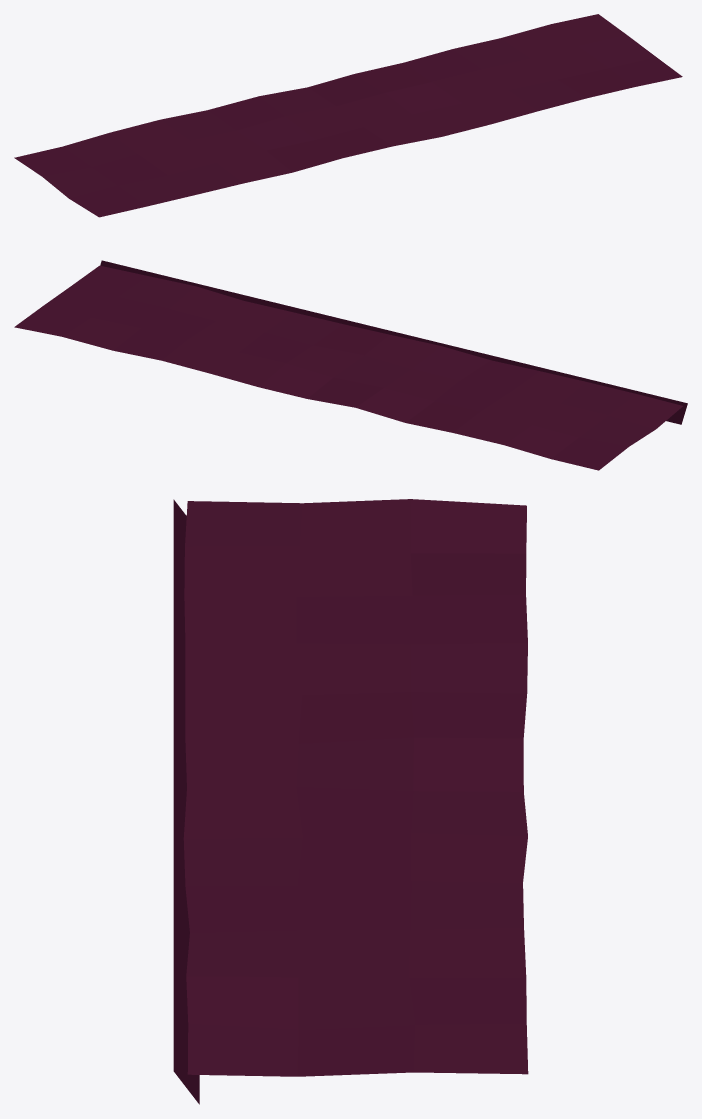
File: bank.glb
3 renders of one model, top to bottom at view 1: azimuth 30°, elevation 25°; view 2: azimuth 150°, elevation 25°; view 3: azimuth 270°, elevation 25°, orthographic. The views are drawn at different scales.
Visible parts, largest first — view 1: Bank; view 2: Bank, Slope; view 3: Bank, Slope.
Part boxes in pixels (x1=…): Bank: x1=14, y1=14, x2=682, y2=217; Bank: x1=14, y1=265, x2=682, y2=470; Slope: x1=100, y1=260, x2=687, y2=424; Bank: x1=183, y1=499, x2=528, y2=1076; Slope: x1=173, y1=499, x2=199, y2=1104.
Bounding box in the file's own units: 18.01 × 0.4945 × 4.71.
